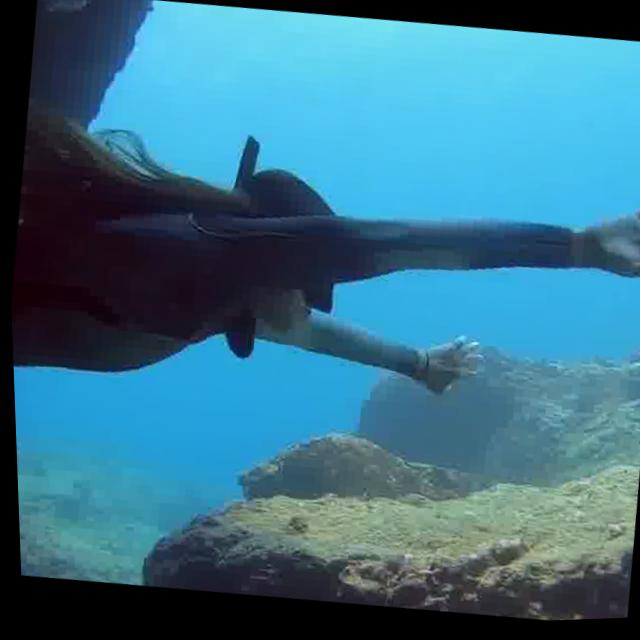human: (3, 71, 640, 501)
